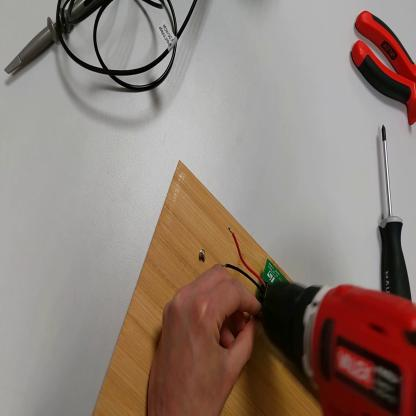electric screwdriver: (261, 284, 416, 416)
hand: (149, 260, 262, 415)
high voltage board: (222, 229, 296, 303)
oscilloscope probe tip: (5, 1, 93, 78)
pliers: (350, 11, 416, 129)
screwdriver-: (369, 125, 412, 300)
working area: (94, 162, 319, 416)
